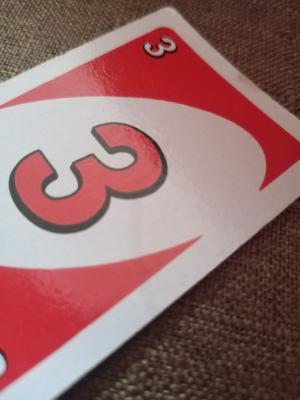num_3: (138, 29, 186, 65)
